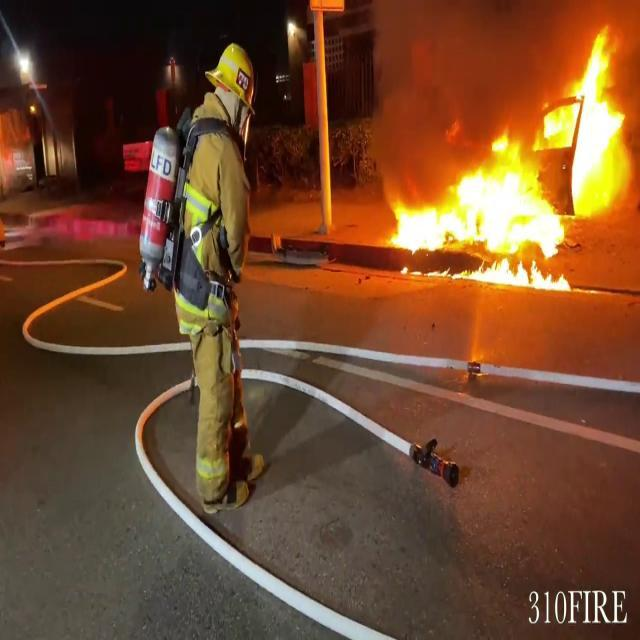Fire: (376, 25, 638, 293)
